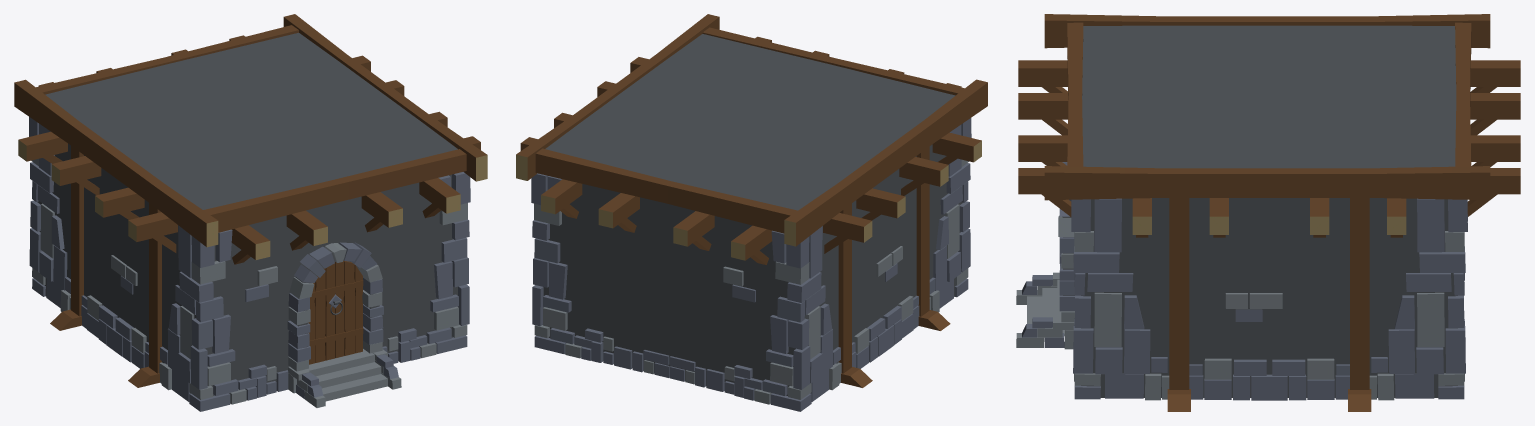
File: fantasy-house.glb
The picture shows the model from 3 angles, left to right: view 1: azimuth 30°, elevation 25°; view 2: azimuth 150°, elevation 25°; view 3: azimuth 270°, elevation 25°; orthographic projection. The views are drawn at different scales.
Visible parts, largest first — view 1: House_4; view 2: House_4; view 3: House_4.
Boxes of the visible parts, box(x1,y1,x2,y2) form: House_4: box(14, 14, 487, 411); House_4: box(516, 14, 987, 411); House_4: box(1016, 14, 1520, 411).
Bounding box in the file's own units: 1.94 × 1.07 × 2.12.
Materials: 1 (1 with a texture image).
